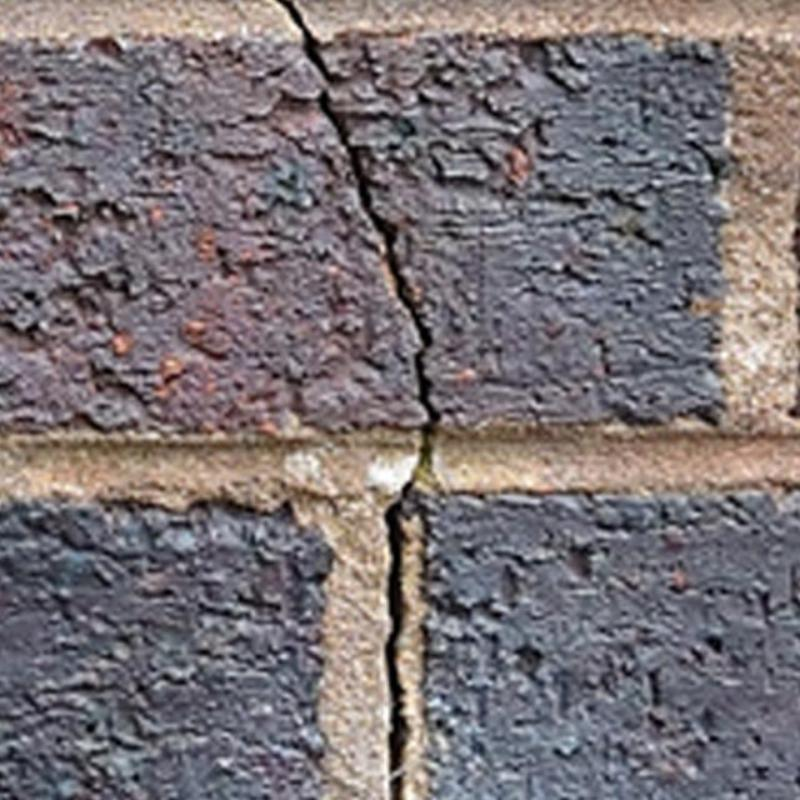crack: (317, 89, 441, 799), (273, 1, 348, 87)
